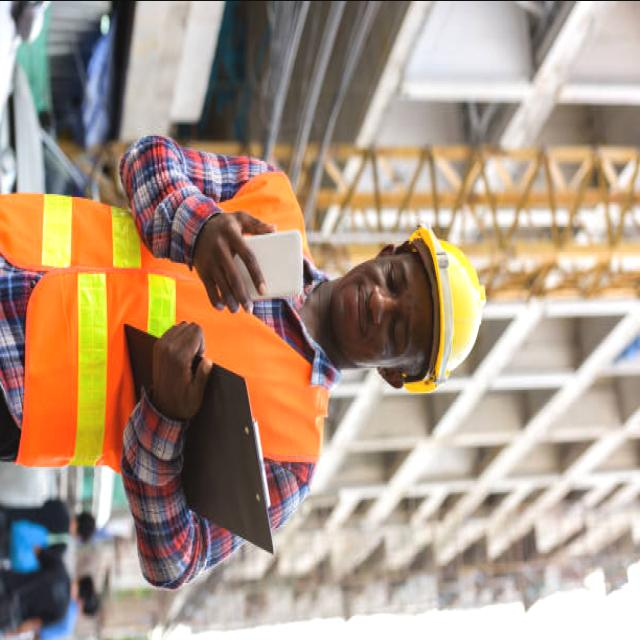Hard Hat: (395, 218, 493, 393)
Reflective Vest: (11, 127, 347, 562)
